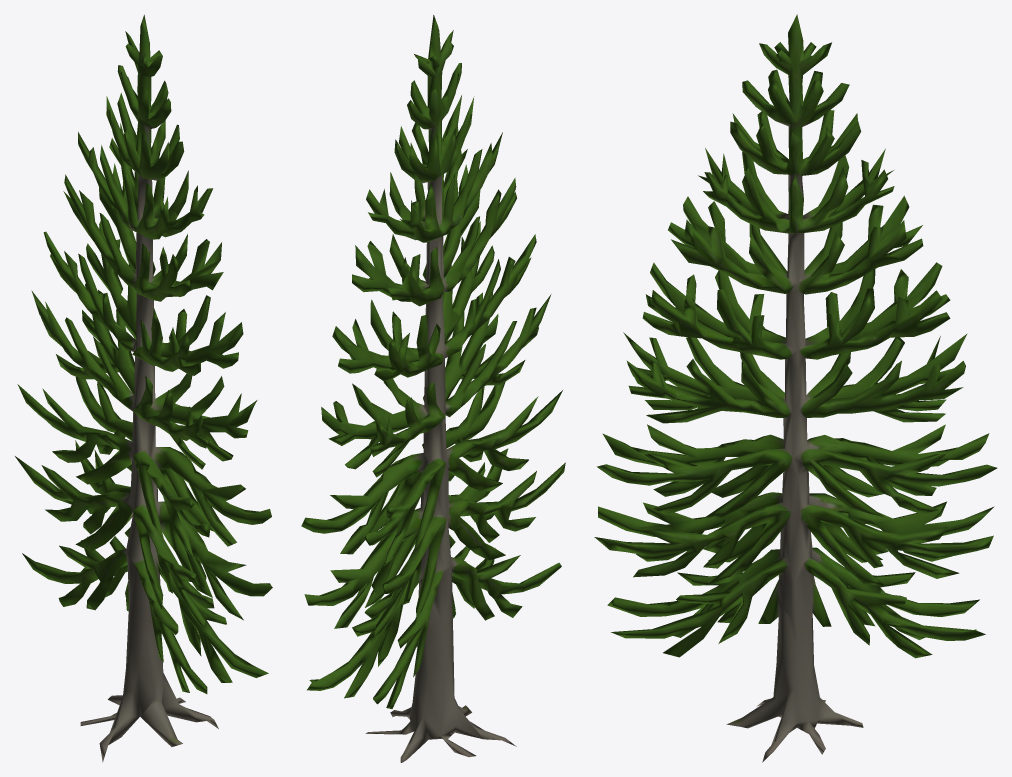
File: de98e60d-658c-4fe1-ae2c-657b110a825c_model_url.glb
3 views of the same model, side by side, from view 1: azimuth 30°, elevation 25°; view 2: azimuth 150°, elevation 25°; view 3: azimuth 270°, elevation 25° (orthographic).
Visible parts, largest first — view 1: tripo_node_de98e60d-658c-4fe1-ae2c-657b110a825c; view 2: tripo_node_de98e60d-658c-4fe1-ae2c-657b110a825c; view 3: tripo_node_de98e60d-658c-4fe1-ae2c-657b110a825c.
Part boxes in pixels (bbox=[...]): tripo_node_de98e60d-658c-4fe1-ae2c-657b110a825c: bbox=[15, 14, 272, 762]; tripo_node_de98e60d-658c-4fe1-ae2c-657b110a825c: bbox=[301, 15, 565, 762]; tripo_node_de98e60d-658c-4fe1-ae2c-657b110a825c: bbox=[594, 14, 997, 762].
Size of the model in its own units: 0.1739 by 1 by 0.5063.
1 material, 1 textured.
